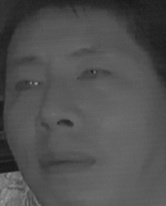eye: (76, 66, 114, 85), (13, 76, 44, 96)
mouth: (34, 143, 96, 180)
